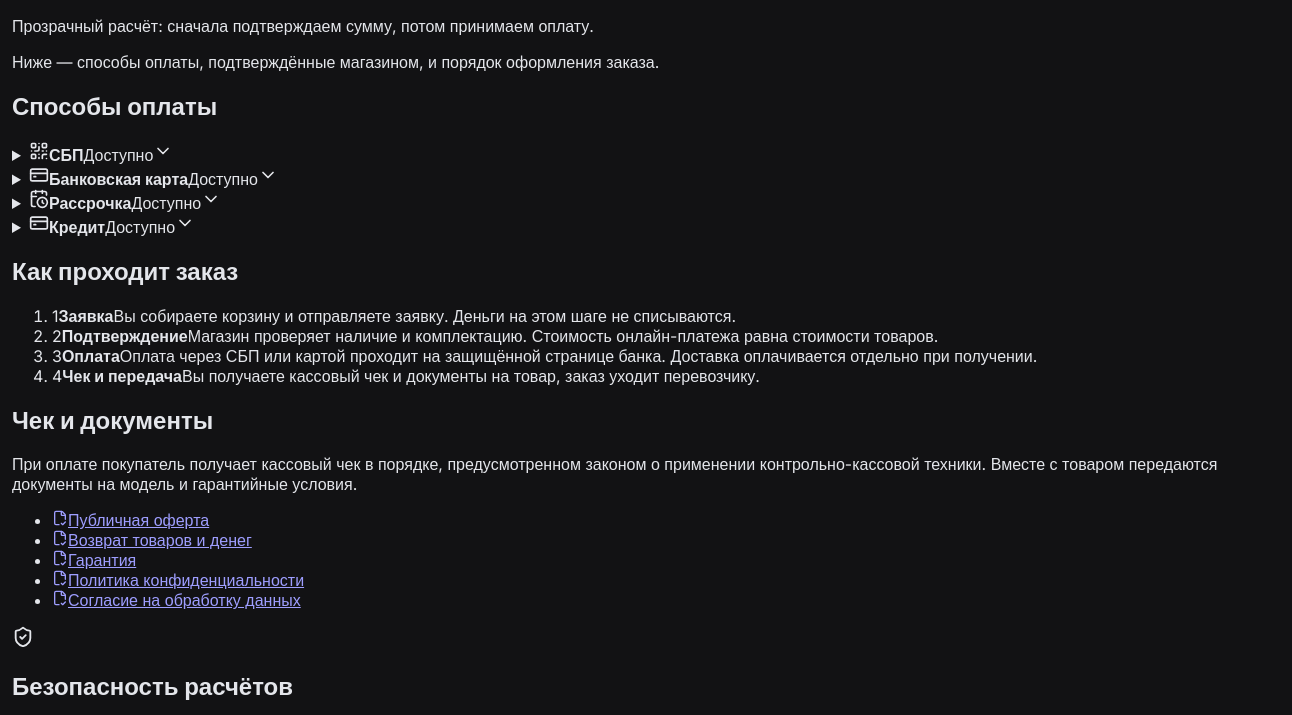
Test: раздел оплаты › объясняет порядок оплаты и отдельную оплату доставки
This screenshot has width=1292, height=715.
Click the text "СБП" at coordinates (66, 155), box 49,145 -> 84,165
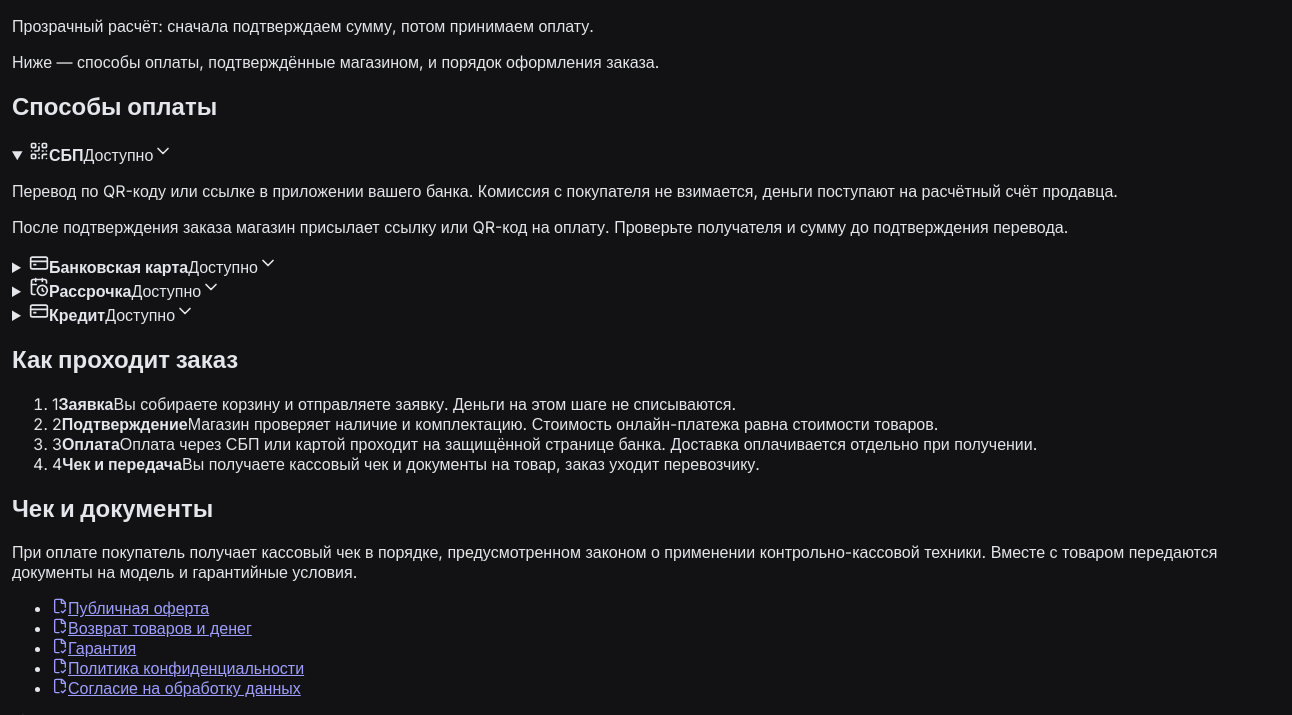
Expected: the text "Доставка оплачивается отдельно при получении" is shown, 120,434 -> 1037,454
Result: the text "ссылку или QR-код на оплату" is shown at 12,217 -> 1068,237
